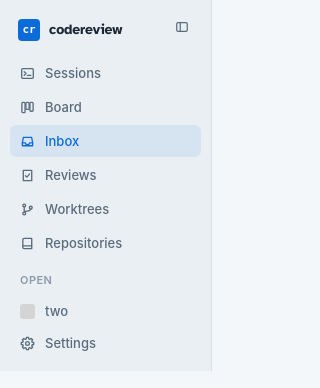
Test: HomeNav › shows the full repo name in a hover tooltip
This screenshot has width=320, height=388.
Hover over the button "two": (44, 311) [20, 303, 68, 319]
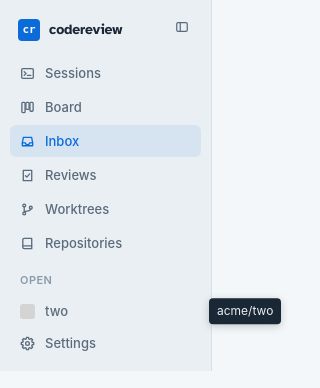
Expected: the tooltip reads "acme/two", [217, 304, 273, 319]
Move the pointer off the button "two", box [20, 303, 68, 319]
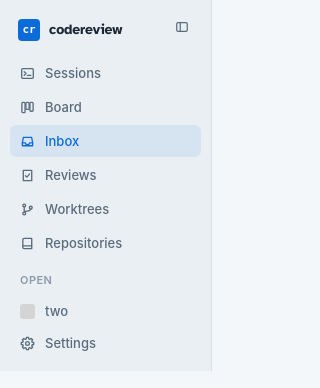
Expected: the tooltip "acme/two" is gone
